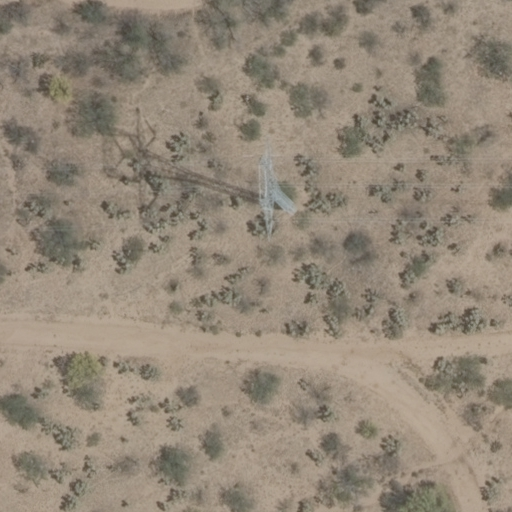TT: (240, 134, 308, 243)
